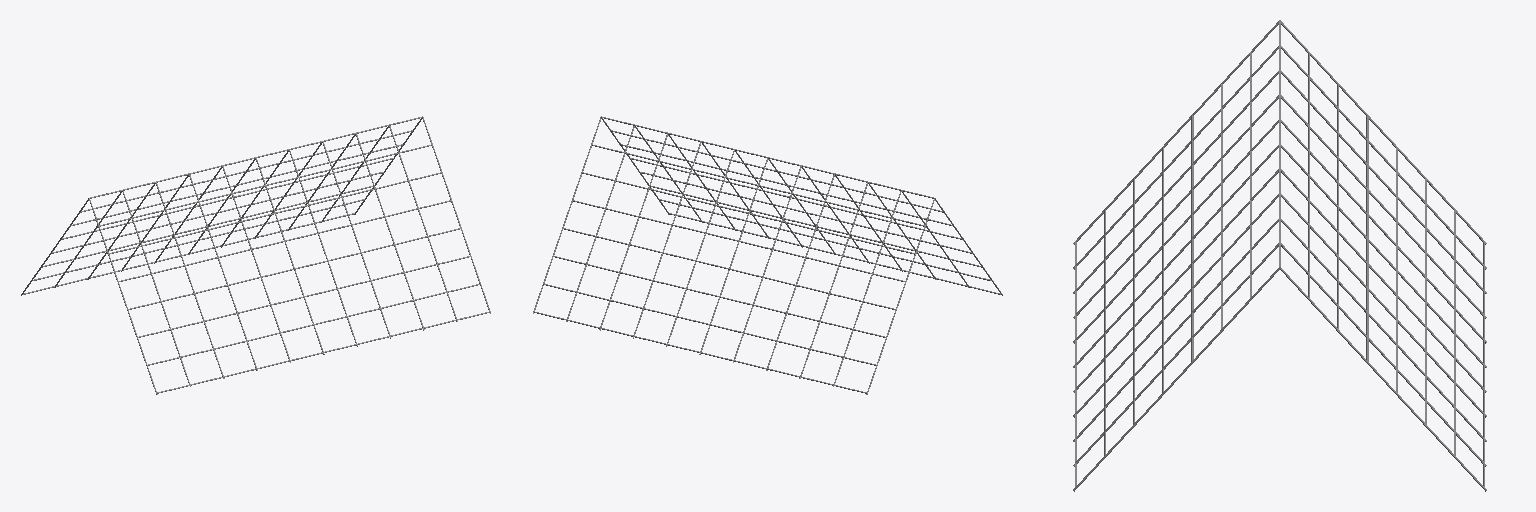
The robot description file, URDF, robot "camera":
<robot name="camera">

  <link name="trellis">
    <visual>
      <origin rpy="0 0 0" xyz="0 0 0"/>
      <geometry>
        <mesh filename="package://tenacity_gazebo/meshes/trellis/trellis.stl" scale="0.001 0.001 0.001"/>
      </geometry>
      <material name="metal">
        <color rgba="0.6 0.6 0.6 1"/>
      </material>
    </visual>
  </link>
</robot>

--- Render facts (derived) ---
The picture shows the robot from 3 angles, left to right: view 1: azimuth 30°, elevation 25°; view 2: azimuth 150°, elevation 25°; view 3: azimuth 270°, elevation 25°; orthographic projection.
Robot: camera — 1 links, 0 joints (none); root link trellis; default pose: all joints at 0.
Visible links, largest first — view 1: trellis; view 2: trellis; view 3: trellis.
Link boxes in pixels (x1,y1,x2,y2): trellis: [21, 116, 490, 394]; trellis: [533, 116, 1002, 394]; trellis: [1073, 20, 1486, 491].
Size in the robot's own frame: 0.01 by 0.0071 by 0.0042 metres.
Meshes: 1 distinct files referenced, 1 mesh visuals loaded (1 binary STL).